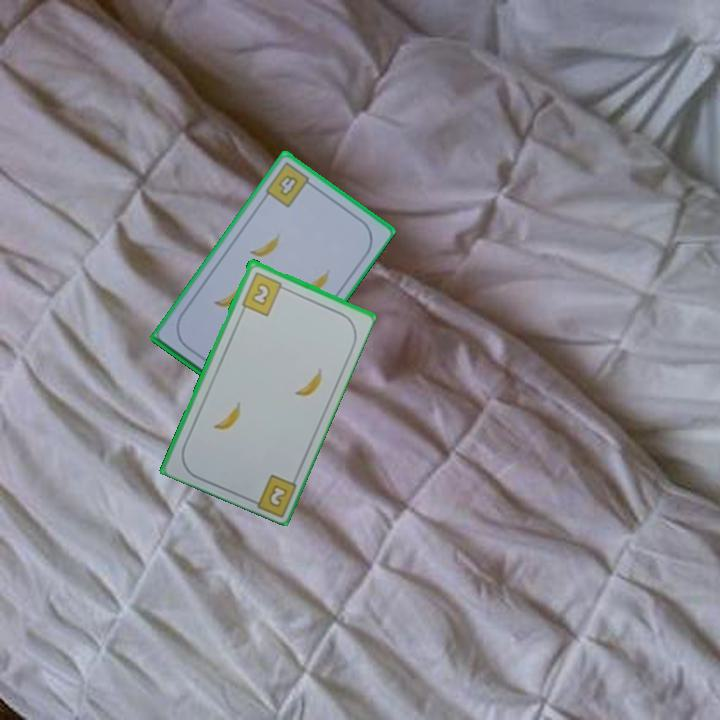2b: (238, 268, 290, 318), (265, 481, 290, 510)
4b: (262, 158, 317, 210)
